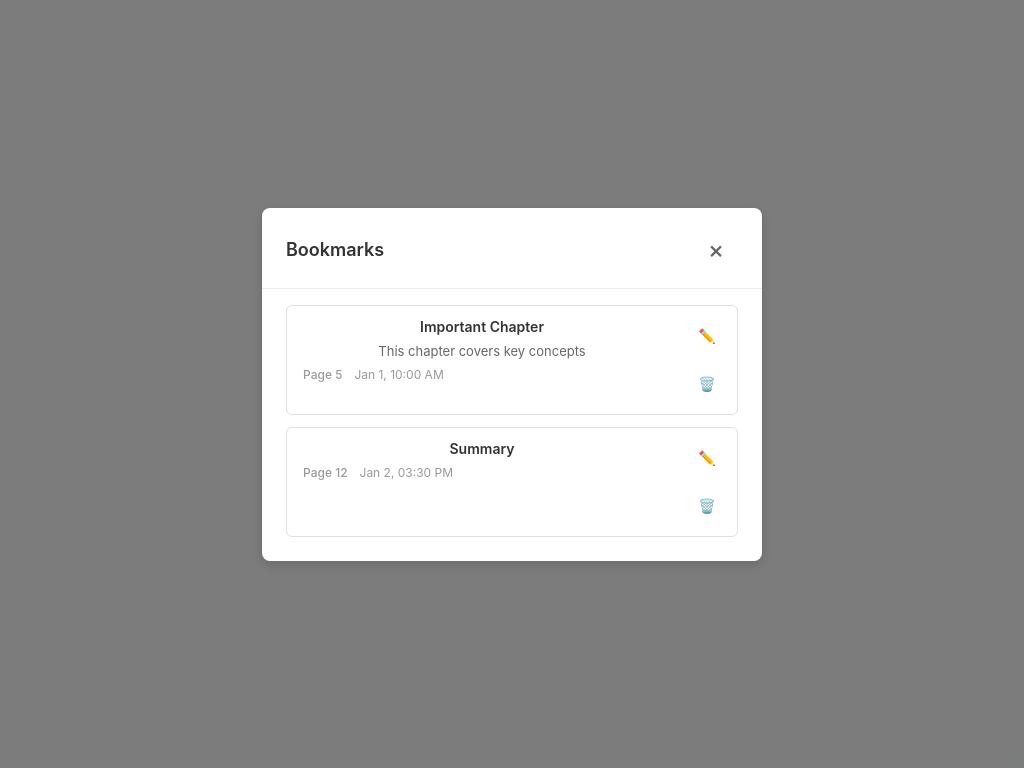
BookmarkPanel › disables save button when title is empty
Click the button named "Edit bookmark" at (707, 336), box [685,314,729,358]
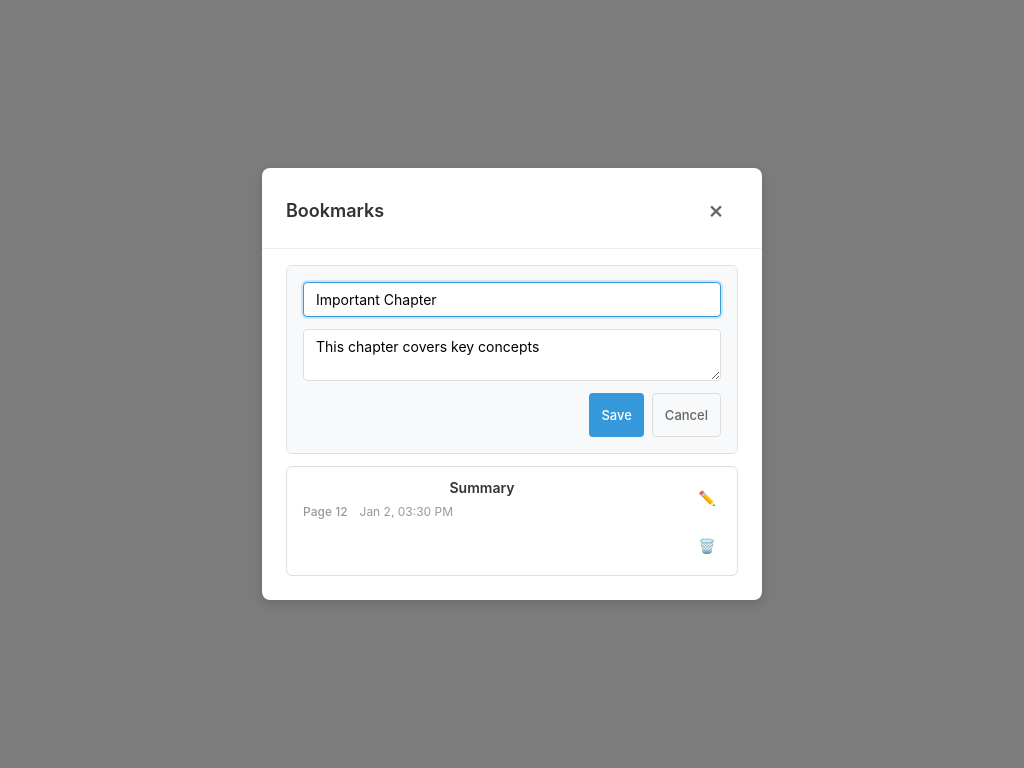
Clear the field showing "Important Chapter" at (512, 300), box [303,282,721,317]
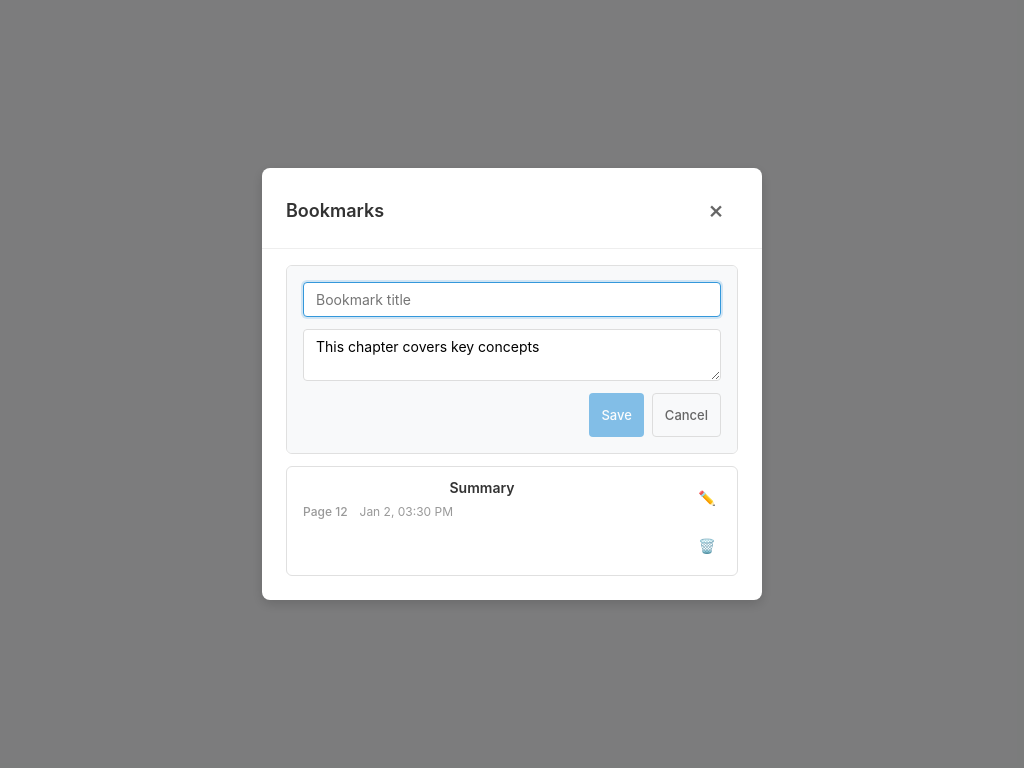
Expected: the button "Save" is disabled, [589,393,644,437]
